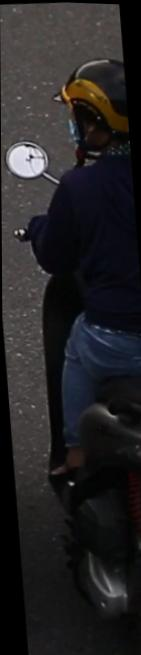helmet: (63, 50, 131, 178)
